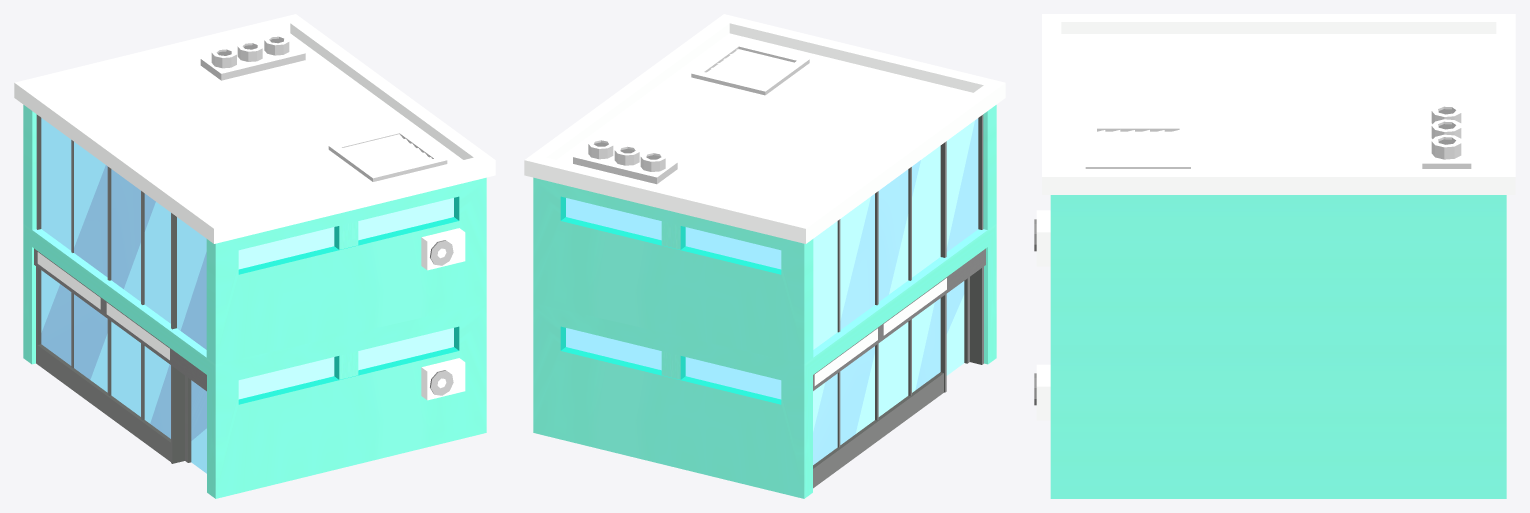
The model's file is tile_for_home_1x1.006 (8) supermarket (7).glb.
The picture shows the model from 3 angles, left to right: view 1: azimuth 30°, elevation 25°; view 2: azimuth 150°, elevation 25°; view 3: azimuth 270°, elevation 25°; orthographic projection. The views are drawn at different scales.
Visible parts, largest first — view 1: supermarket.006; view 2: supermarket.006; view 3: supermarket.006.
Boxes of the visible parts, left/top/right/bottom form: supermarket.006: left=14, top=14, right=495, bottom=498; supermarket.006: left=524, top=14, right=1005, bottom=498; supermarket.006: left=1034, top=14, right=1515, bottom=498.
Size of the model in its own units: 6.03 by 5.75 by 7.52.
1 material, 1 textured.
